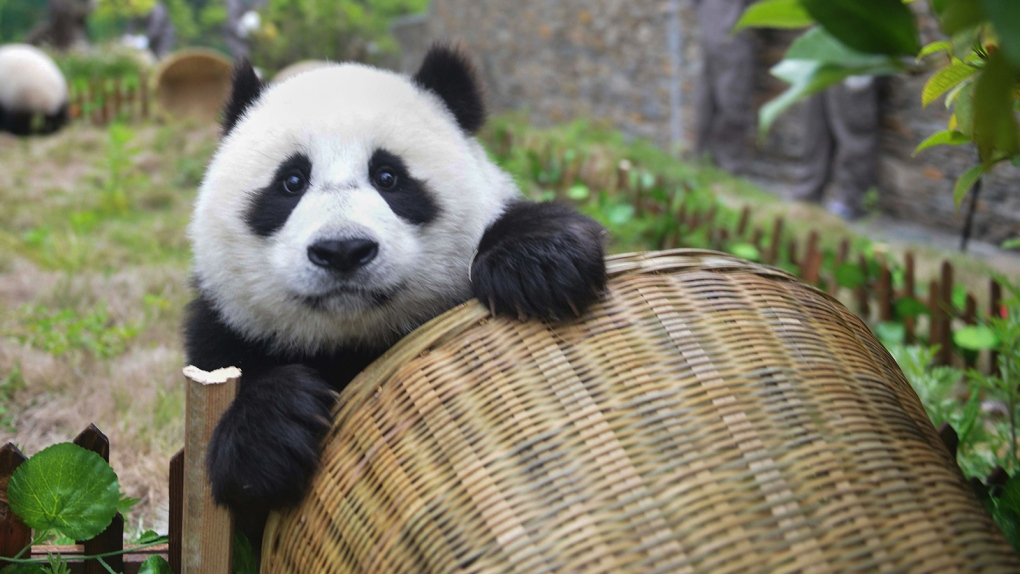panda: (81, 31, 626, 477)
